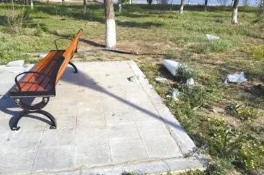garbage: (164, 57, 194, 87), (162, 87, 184, 104), (224, 71, 247, 86), (184, 76, 202, 94), (203, 33, 221, 44)
